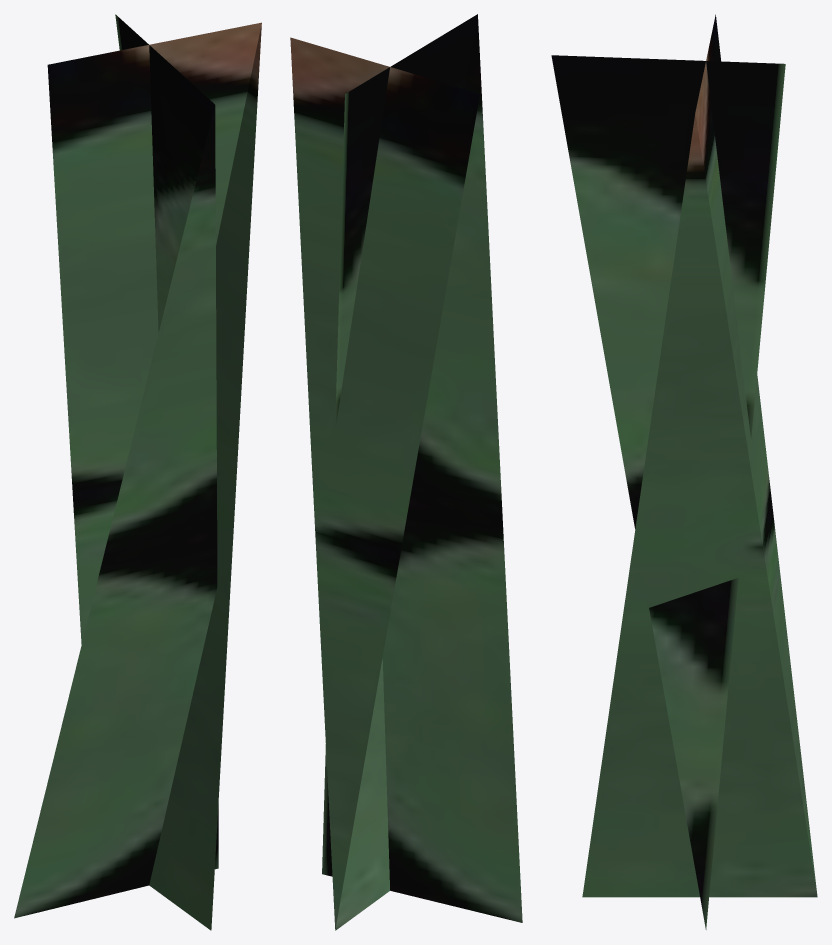
The model's file is Canyon_Grass_1.glb.
The picture shows the model from 3 angles, left to right: view 1: azimuth 30°, elevation 25°; view 2: azimuth 150°, elevation 25°; view 3: azimuth 270°, elevation 25°; orthographic projection. The views are drawn at different scales.
Parts seen in each view (by area): view 1: Canyon_Grass_1_0; view 2: Canyon_Grass_1_0; view 3: Canyon_Grass_1_0.
Part boxes in pixels (x1,y1,x2,y2): Canyon_Grass_1_0: [14, 14, 261, 930]; Canyon_Grass_1_0: [290, 14, 522, 930]; Canyon_Grass_1_0: [551, 14, 817, 929].
Bounding box in the file's own units: 0.3259 × 1.08 × 0.3115.
1 material, 1 textured.
